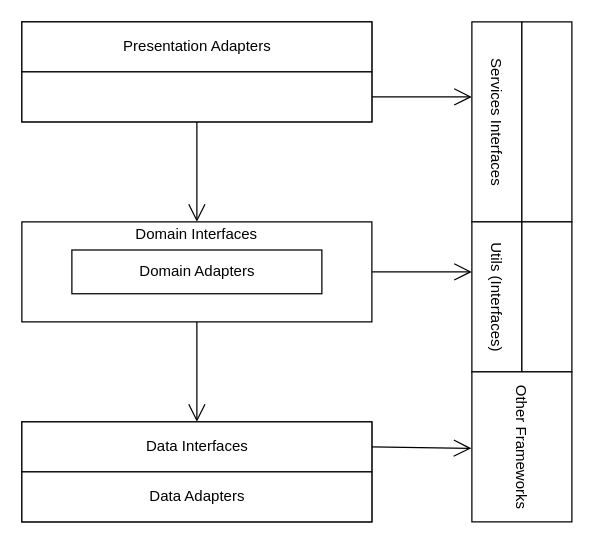
The diagram is 594 pixels wide and 544 high, and some of its shapes have lost their labels. The shapes that lost their labels are listed below. From the top down, each one's centre as x and y in pixels, then its label:
[196,96]: Presentation Interfaces
[546,121]: Services Adapters
[546,296]: Utils (Adapters)
